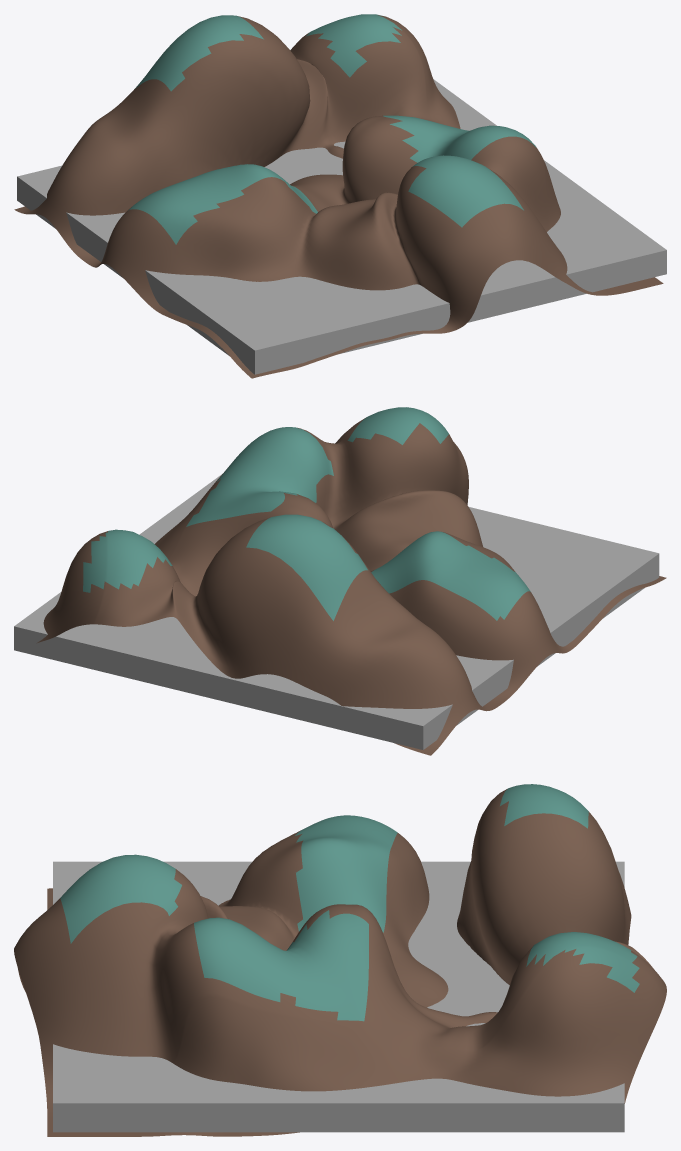
The picture shows the model from 3 angles, top to bottom: view 1: azimuth 30°, elevation 25°; view 2: azimuth 150°, elevation 25°; view 3: azimuth 270°, elevation 25°; orthographic projection. The views are drawn at different scales.
Visible parts, largest first — view 1: pCube2; view 2: pCube2; view 3: pCube2.
Part boxes in pixels (x1,y1,x2,y2): pCube2: (14,14,666,378); pCube2: (14,407,666,755); pCube2: (14,784,666,1136).
Size of the model in its own units: 51.89 by 19.75 by 57.1.
